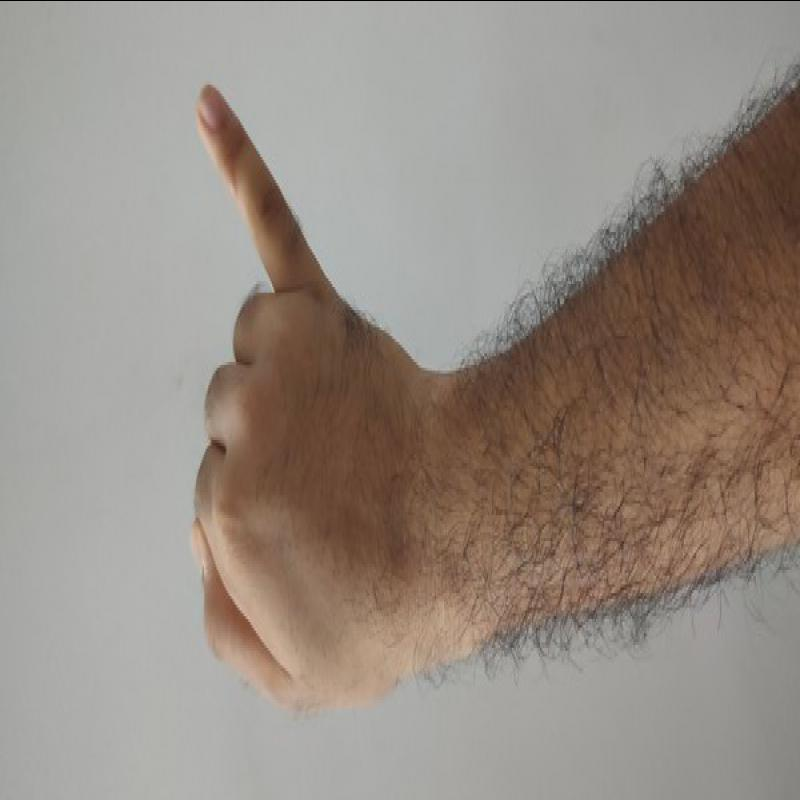Kartharee Mukham: (151, 63, 433, 733)
